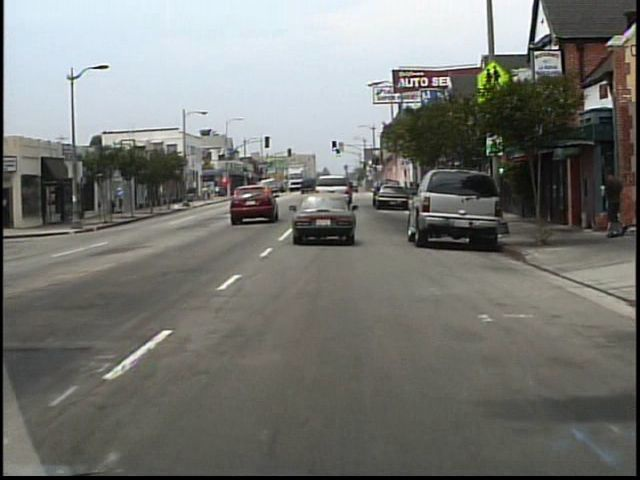person: (601, 166, 628, 238), (594, 170, 619, 234), (118, 186, 130, 214)
